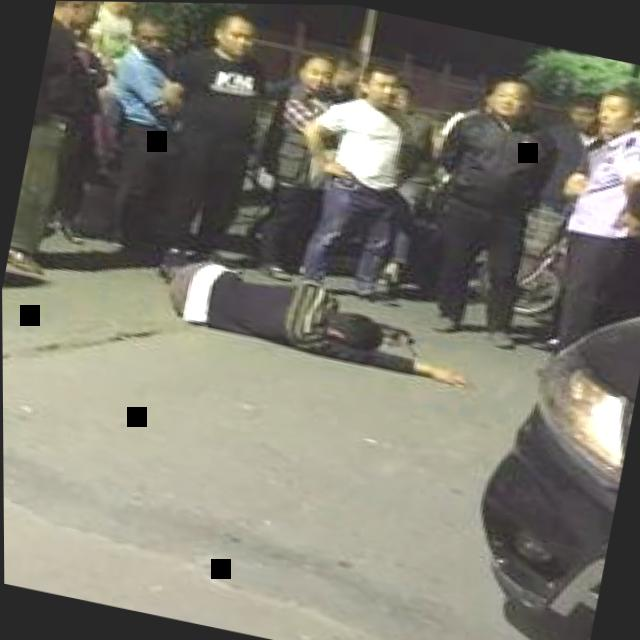Fall-Detected: (141, 234, 488, 390)
